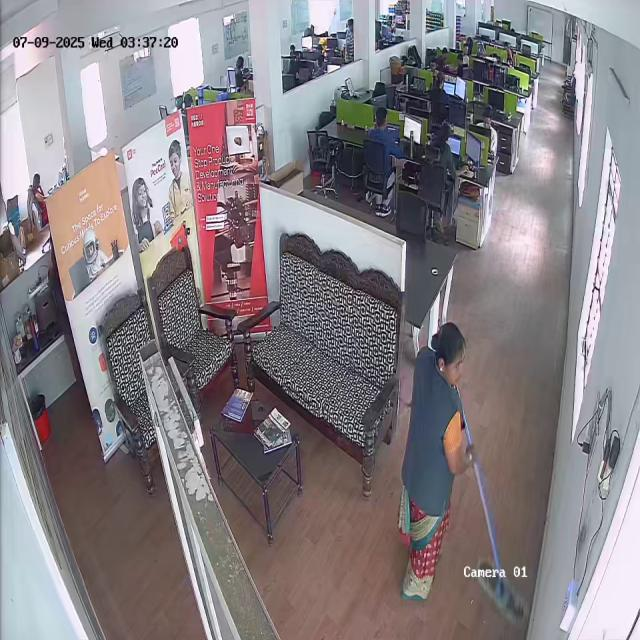person: (402, 320, 476, 603), (427, 122, 463, 234), (368, 107, 404, 215), (32, 174, 54, 222)
